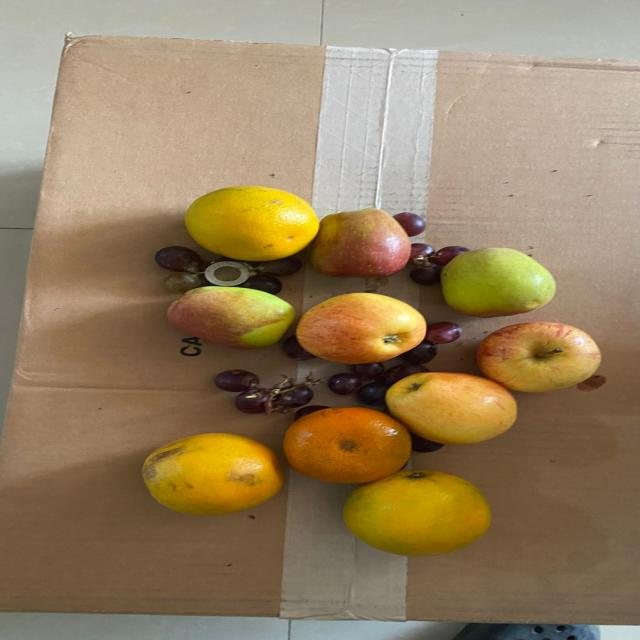moneda: (209, 261, 248, 291)
